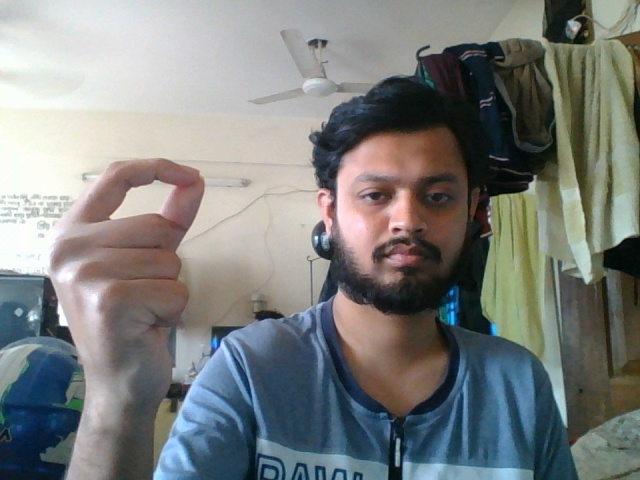gha: (44, 150, 213, 446)
